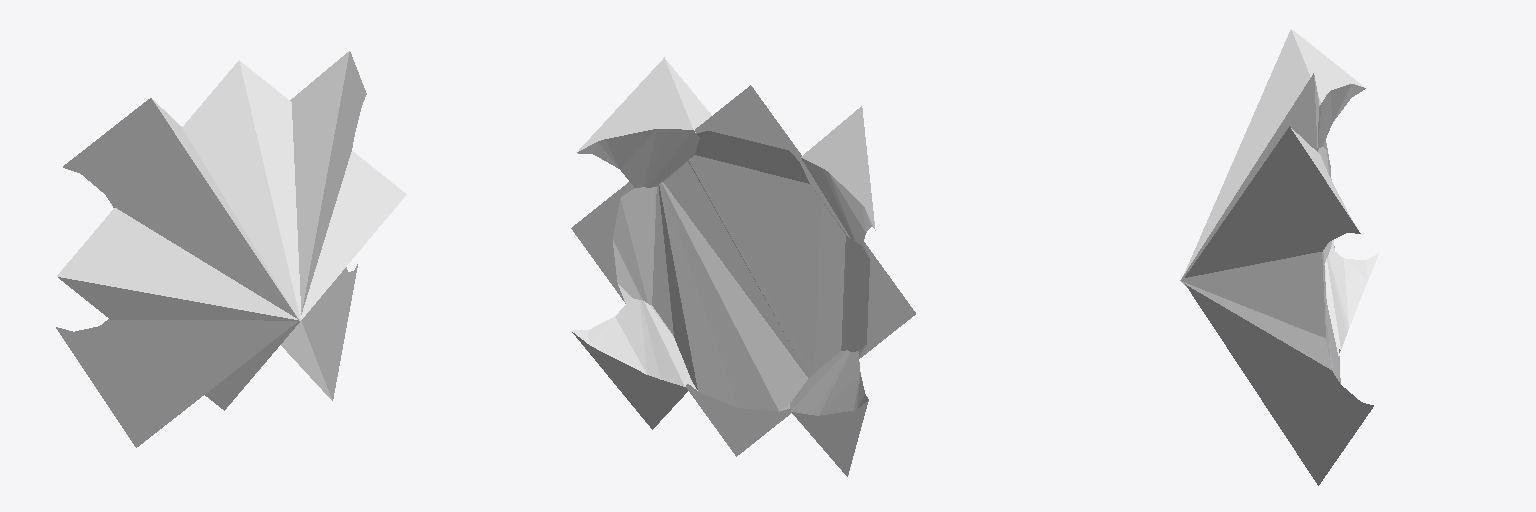
File: Bonus_invincible.obj
The picture shows the model from 3 angles: view 1: azimuth 30°, elevation 25°; view 2: azimuth 150°, elevation 25°; view 3: azimuth 270°, elevation 25°; orthographic projection.
Visible parts, largest first — view 1: polySurface2; view 2: polySurface2; view 3: polySurface2.
Boxes of the visible parts, box(x1,y1,x2,y2) form: polySurface2: box(56, 51, 406, 447); polySurface2: box(571, 57, 915, 476); polySurface2: box(1180, 29, 1378, 485).
Bounding box in the file's own units: 0.593 × 0.5973 × 0.2943.